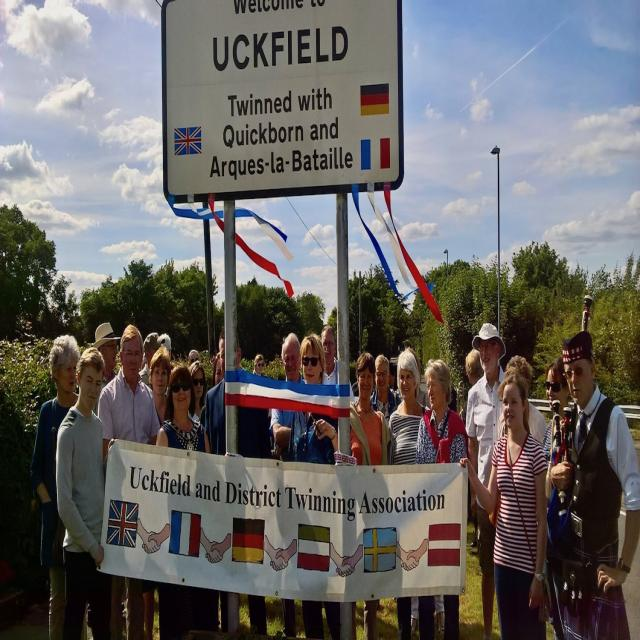body: (550, 330, 639, 639), (459, 375, 553, 639), (204, 328, 271, 638), (54, 343, 118, 639), (155, 363, 213, 640), (412, 361, 468, 639), (29, 334, 80, 639), (466, 323, 508, 639), (347, 350, 389, 638), (272, 329, 306, 639), (142, 344, 173, 640), (97, 323, 160, 462), (287, 335, 340, 465), (387, 350, 431, 464), (460, 347, 485, 547), (496, 354, 548, 445), (406, 594, 497, 638), (541, 358, 571, 467), (320, 324, 356, 402), (93, 320, 121, 417), (369, 350, 402, 430), (388, 351, 430, 405), (187, 358, 209, 424), (138, 331, 162, 390), (141, 331, 173, 367), (210, 349, 226, 387), (252, 353, 264, 377), (187, 348, 200, 367)
